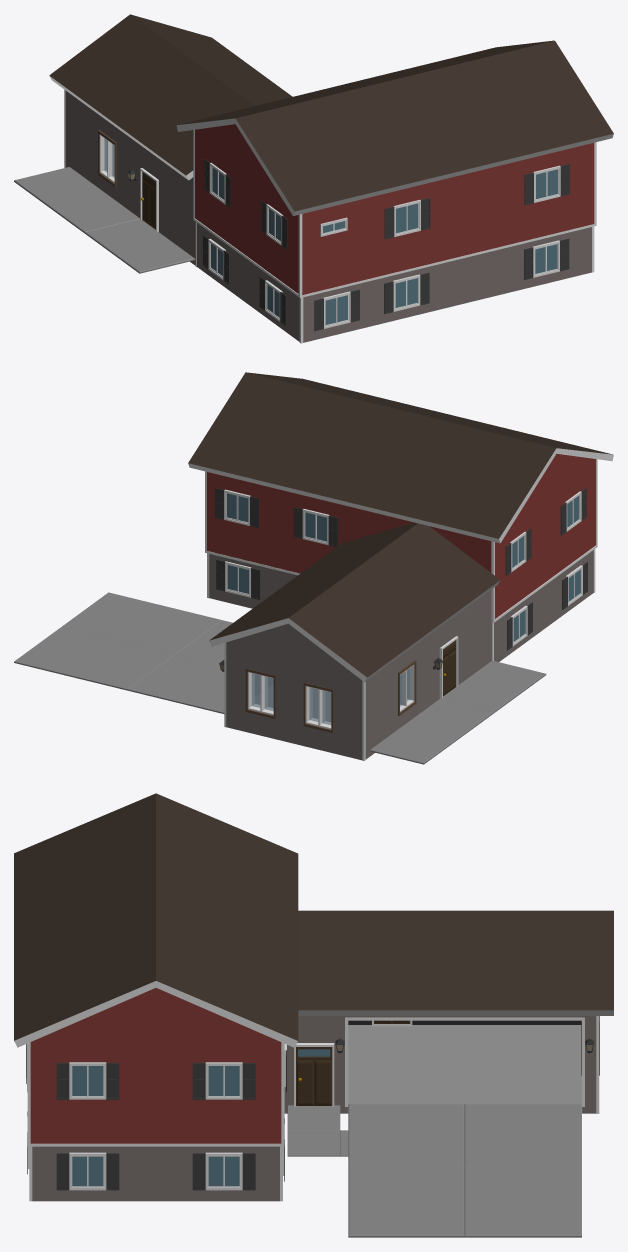
The model's file is House_Red.fbx.
The picture shows the model from 3 angles, top to bottom: view 1: azimuth 30°, elevation 25°; view 2: azimuth 150°, elevation 25°; view 3: azimuth 270°, elevation 25°; orthographic projection. The views are drawn at different scales.
Visible parts, largest first — view 1: House_Red; view 2: House_Red; view 3: House_Red.
Part boxes in pixels (x1,y1,x2,y2): House_Red: (14, 14, 613, 343); House_Red: (14, 372, 613, 764); House_Red: (14, 793, 613, 1237).
Bounding box in the file's own units: 63.8 × 27.36 × 65.15.
